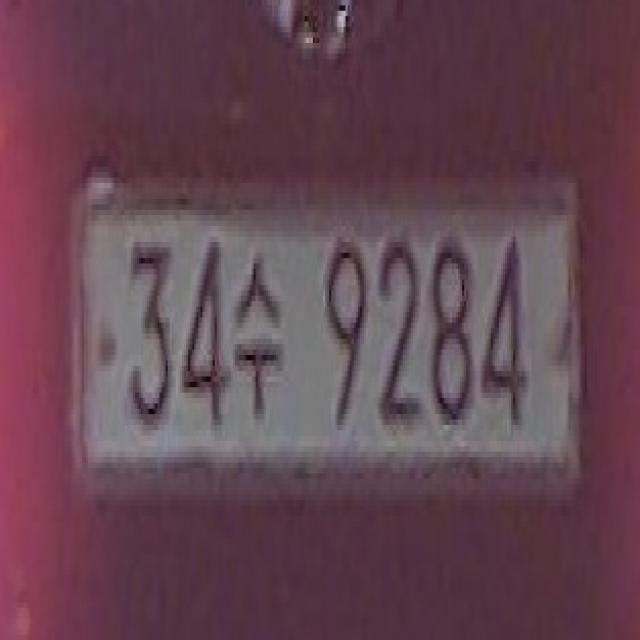2: (372, 237, 423, 430)
3: (131, 232, 172, 430)
4: (176, 247, 229, 425), (480, 237, 530, 425)
8: (428, 231, 477, 425)
9: (325, 232, 368, 430)
license_plate: (70, 172, 580, 500)
su: (233, 242, 282, 425)
